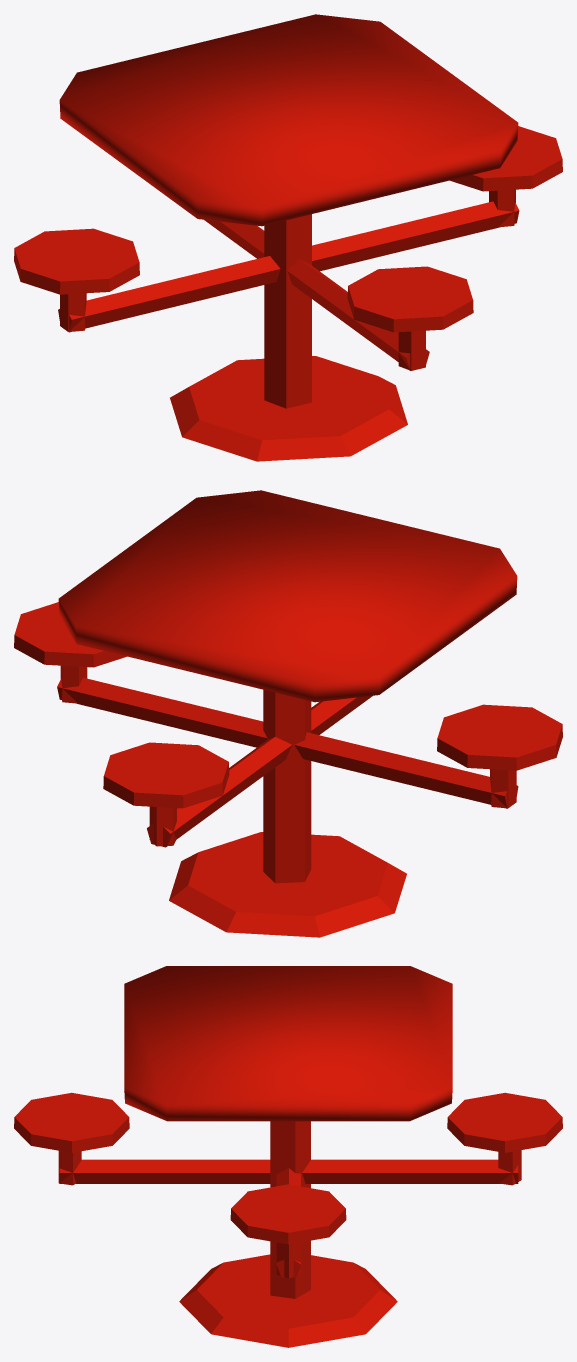
The model's file is UCX_table_metal.fbx.
The picture shows the model from 3 angles, top to bottom: view 1: azimuth 30°, elevation 25°; view 2: azimuth 150°, elevation 25°; view 3: azimuth 270°, elevation 25°; orthographic projection. The views are drawn at different scales.
Parts seen in each view (by area): view 1: UCX_table_metal; view 2: UCX_table_metal; view 3: UCX_table_metal.
Boxes of the visible parts, box(x1,y1,x2,y2) form: UCX_table_metal: box(14, 14, 562, 461); UCX_table_metal: box(14, 490, 562, 937); UCX_table_metal: box(14, 966, 562, 1347).
Size of the model in its own units: 1.53 by 0.8175 by 1.53.
